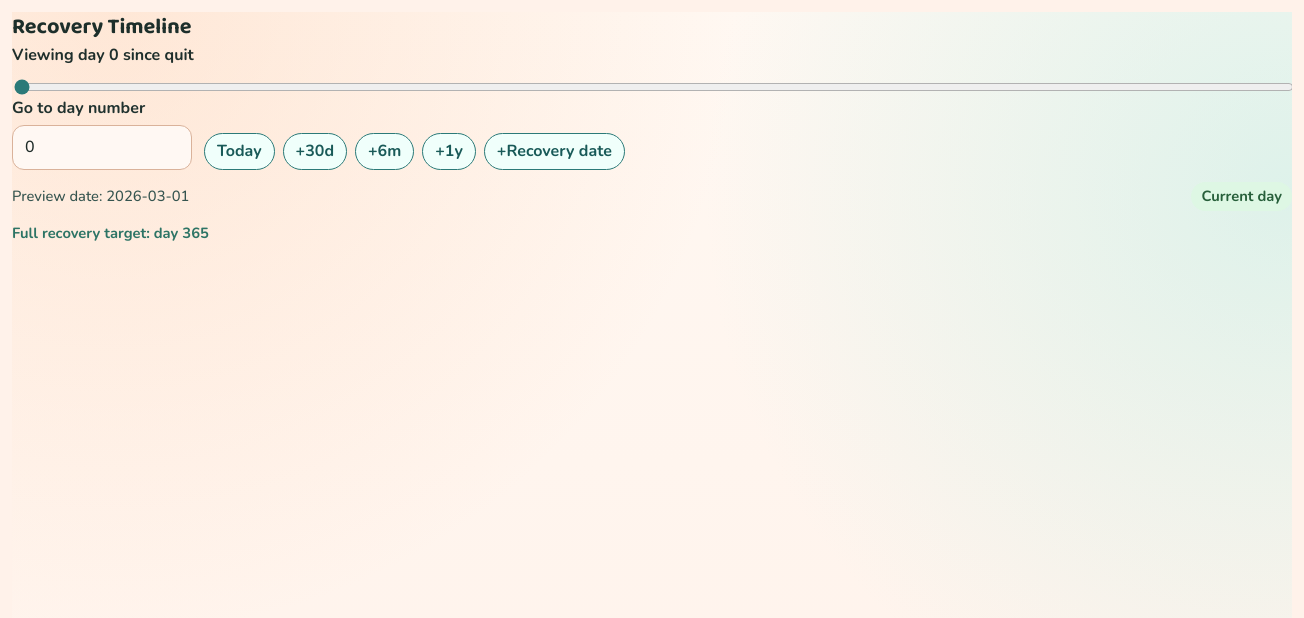
Scenario: TimelineScrubber › lets the user clear and re-enter preview days without keeping a leading zero
Clear the number field labelled "Go to day number" at {"x": 102, "y": 148}, box [12, 125, 192, 170]
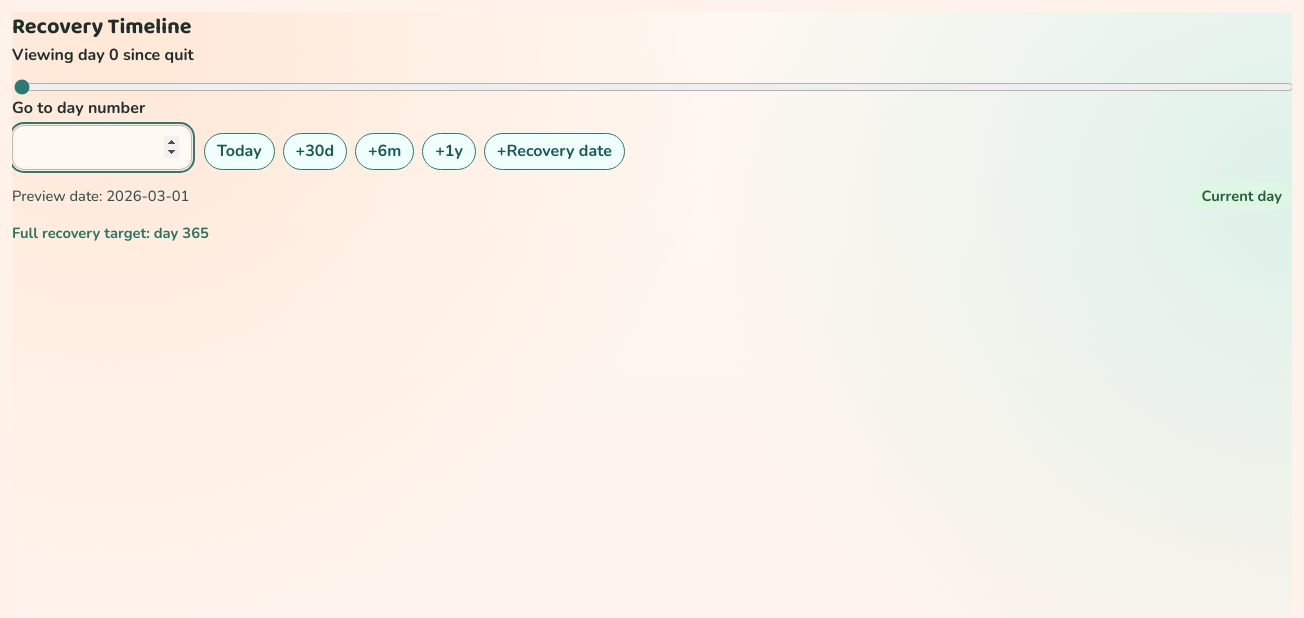
Type "08" into the number field labelled "Go to day number" at {"x": 102, "y": 148}, box [12, 125, 192, 170]
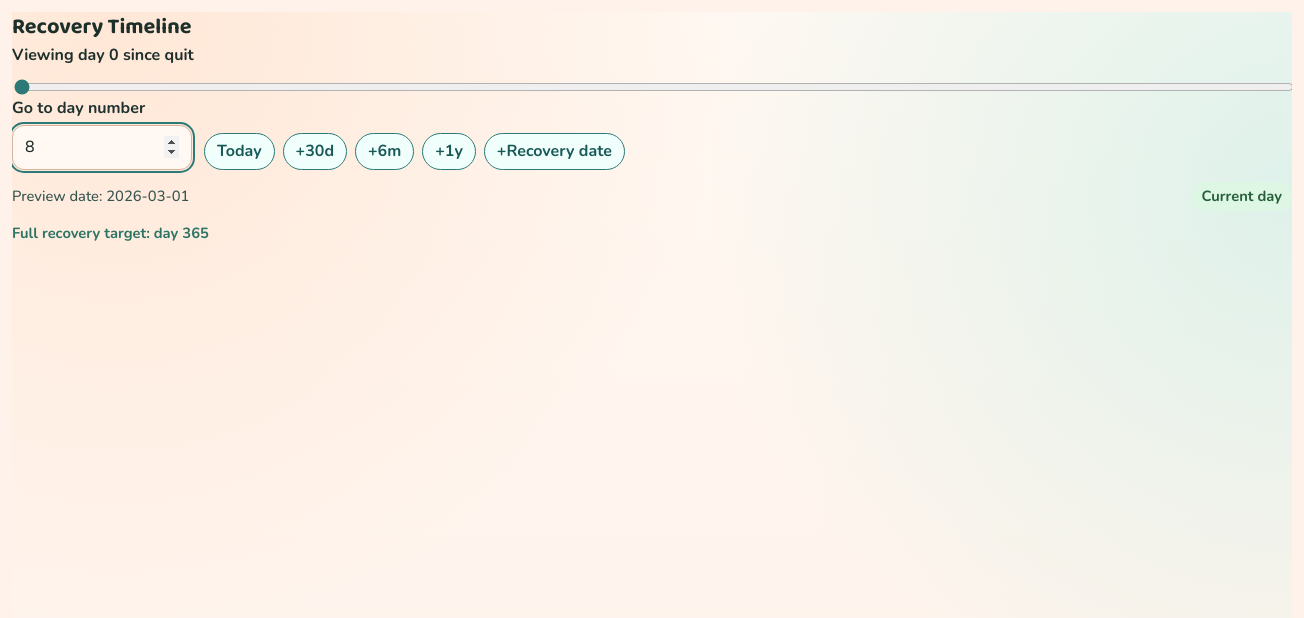
Result: the number field labelled "Go to day number" holds "8" at [12, 125, 192, 170]
